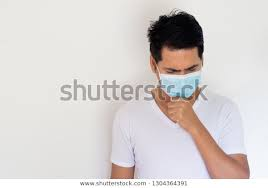masked: (147, 14, 208, 101)
